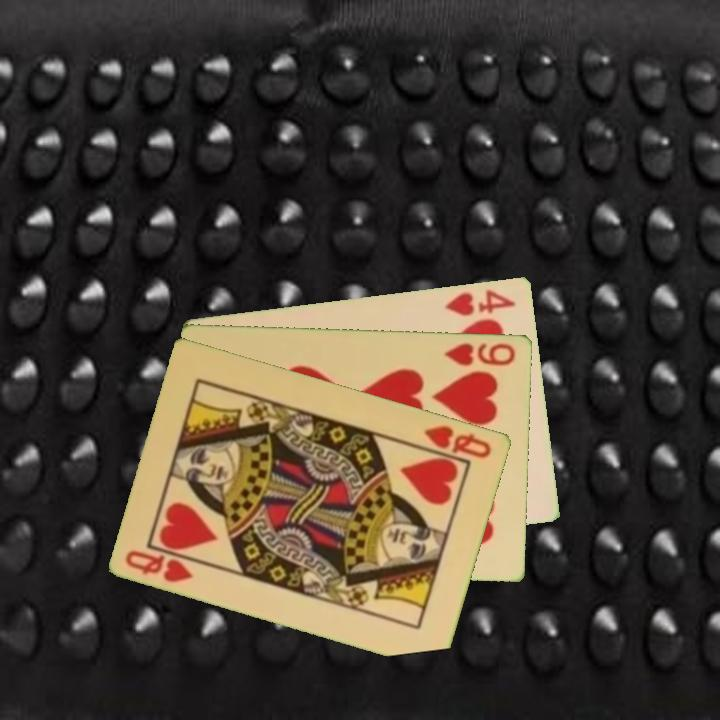4h: (442, 286, 519, 318)
9h: (441, 339, 519, 368)
Qh: (421, 421, 495, 461), (122, 546, 196, 585)
